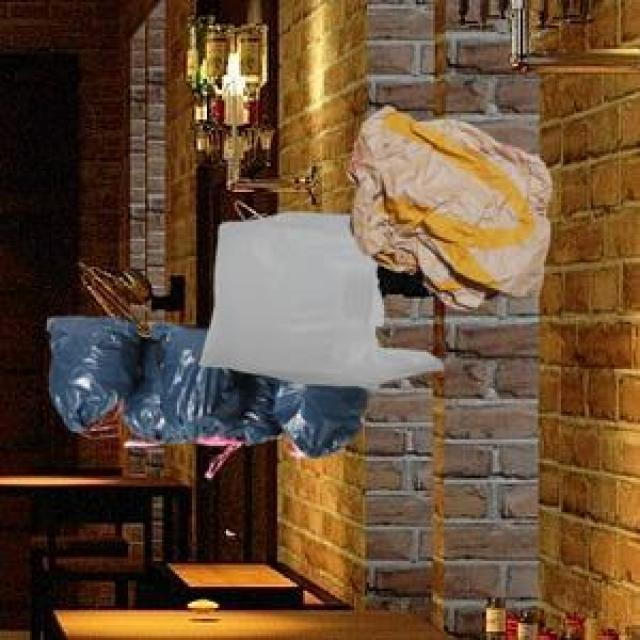miscellaneous trash: (43, 314, 365, 454)
paper: (344, 102, 548, 305)
